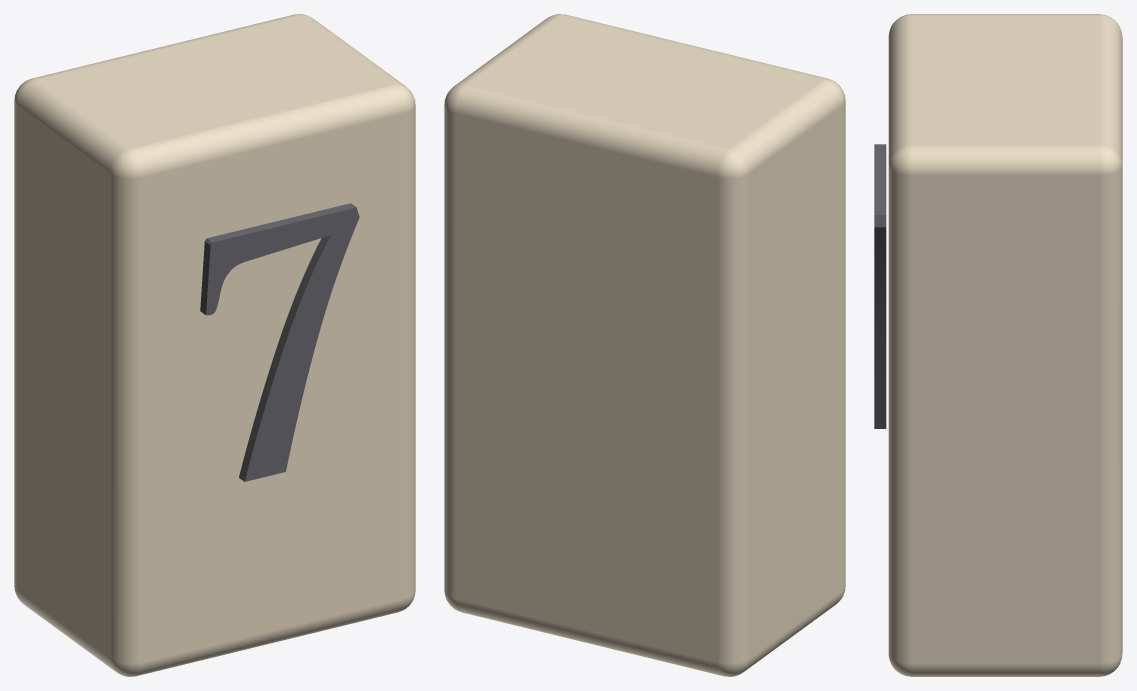
Rendered from pin_7.gltf.
3 views of the same model, side by side, from view 1: azimuth 30°, elevation 25°; view 2: azimuth 150°, elevation 25°; view 3: azimuth 270°, elevation 25° (orthographic).
Visible parts, largest first — view 1: White, Black; view 2: White; view 3: White, Black.
Boxes of the visible parts, x1,y1,x2,y2 form: White: [14, 14, 415, 676]; Black: [200, 203, 359, 481]; White: [444, 14, 845, 676]; White: [888, 14, 1122, 676]; Black: [874, 144, 886, 428].
Bounding box in the file's own units: 1.5 × 2.5 × 1.06.
